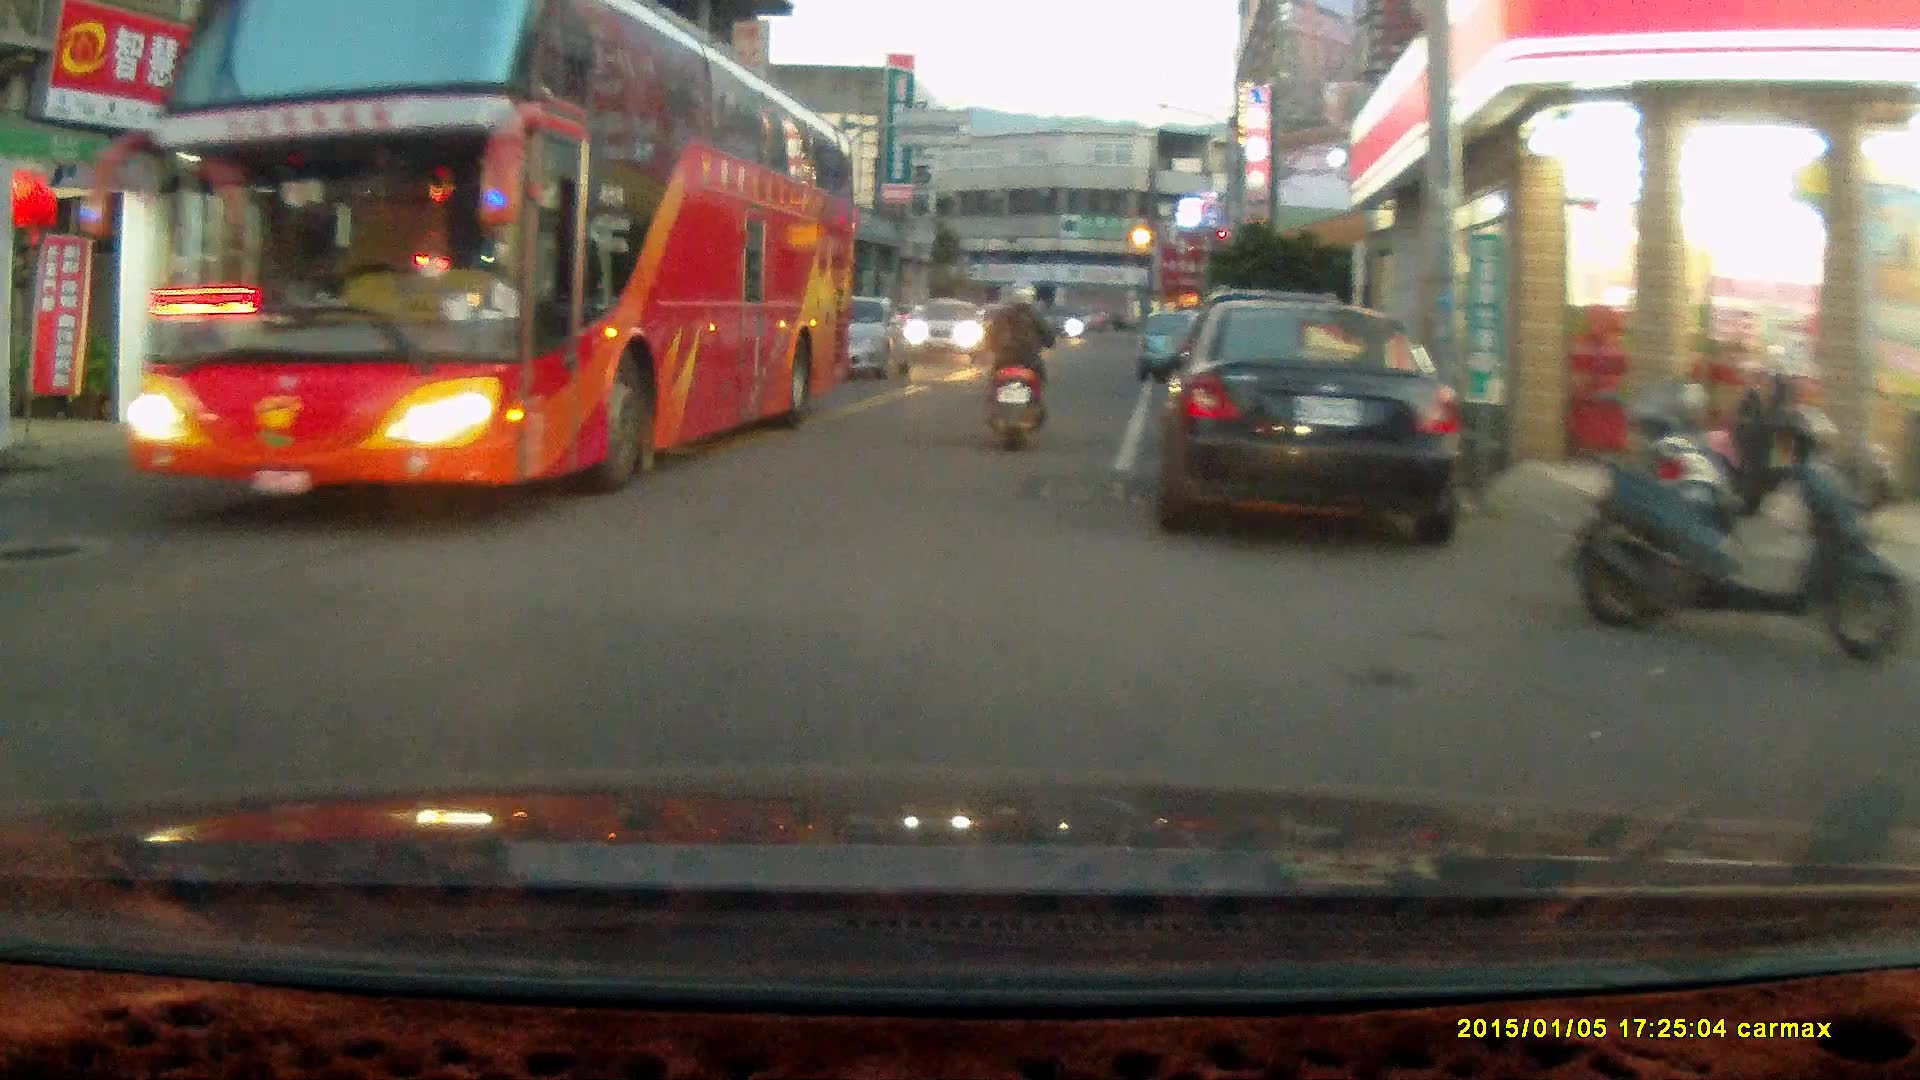rider: (979, 277, 1053, 453)
vehicle: (139, 6, 865, 511), (1134, 295, 1465, 548), (809, 294, 912, 381), (900, 297, 992, 363), (1135, 311, 1217, 385)
